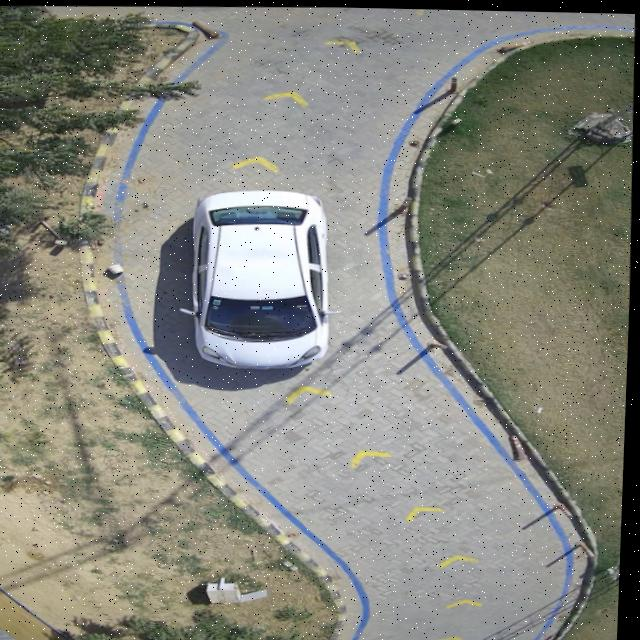car: (189, 189, 333, 367)
